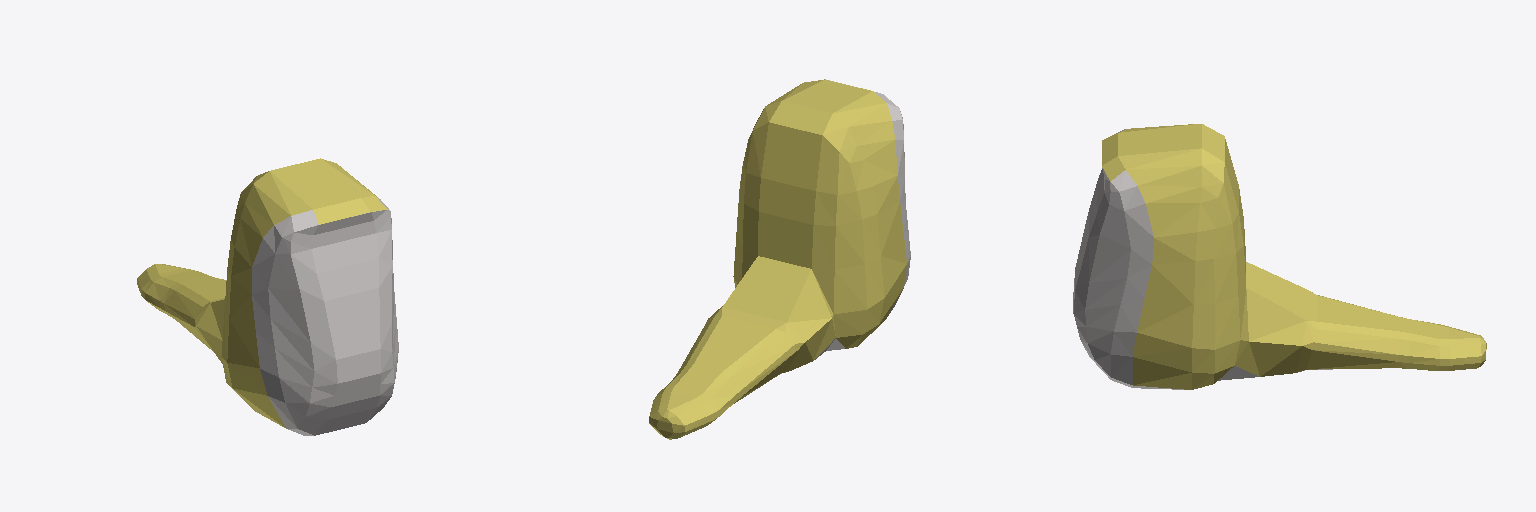
The picture shows the model from 3 angles: view 1: azimuth 30°, elevation 25°; view 2: azimuth 150°, elevation 25°; view 3: azimuth 270°, elevation 25°; orthographic projection.
Visible parts, largest first — view 1: body; view 2: body; view 3: body.
Part boxes in pixels (x1,y1,x2,y2): body: (137, 158, 398, 435); body: (649, 79, 910, 439); body: (1073, 124, 1486, 389).
Size of the model in its own units: 1.88 by 2.97 by 4.63.
1 materials, 1 textured.